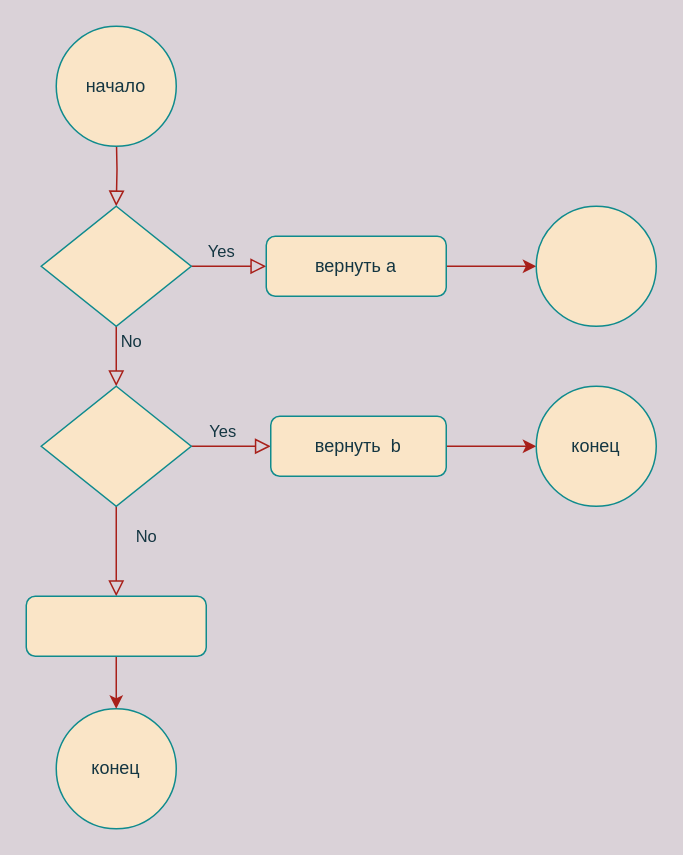
Some shapes in this 683 by 855 pixel diagram are drawn without their labels. Each missing label, with the centre of its shape:
a > b и a > c: the point at 115,265
b > c: the point at 115,445
вернуть c: the point at 115,625
